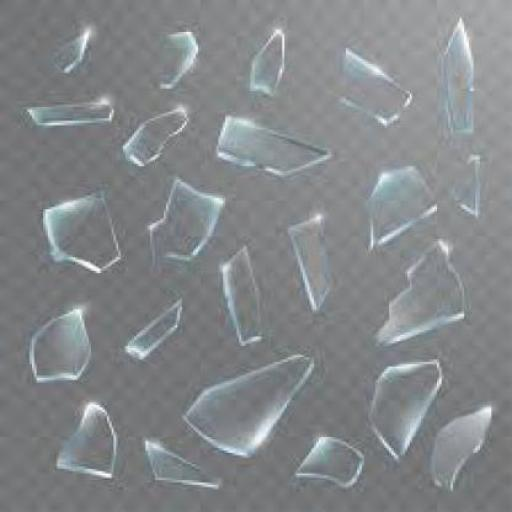glass: (184, 353, 312, 457), (371, 239, 465, 341), (38, 184, 121, 271), (366, 360, 438, 460), (216, 112, 326, 176), (144, 176, 218, 266), (364, 164, 434, 248), (337, 48, 408, 121), (430, 405, 489, 485), (55, 396, 116, 473), (284, 210, 330, 307), (30, 305, 88, 376), (143, 434, 221, 485), (121, 102, 187, 161), (221, 240, 259, 342), (440, 16, 472, 128), (125, 296, 178, 358), (292, 434, 359, 480), (23, 95, 111, 125), (154, 27, 194, 86), (248, 27, 282, 91), (448, 153, 476, 214), (50, 28, 84, 70)
